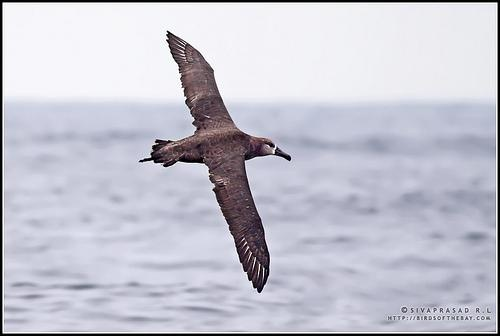bird: (138, 30, 291, 290)
